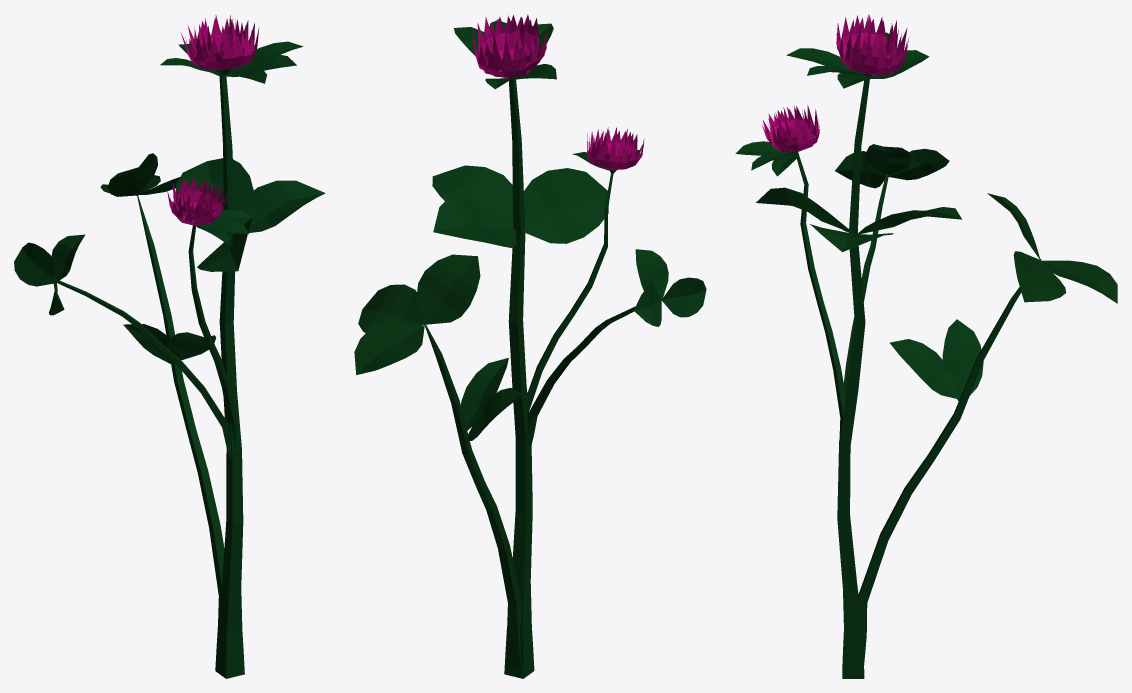
File: КЛЕВЕР ЛУГОВОЙ.fbx
The picture shows the model from 3 angles, left to right: view 1: azimuth 30°, elevation 25°; view 2: azimuth 150°, elevation 25°; view 3: azimuth 270°, elevation 25°; orthographic projection.
Visible parts, largest first — view 1: Plane.003; view 2: Plane.003; view 3: Plane.003.
Boxes of the visible parts, <box> form: Plane.003: <box>14,15,325,678</box>; Plane.003: <box>354,14,706,678</box>; Plane.003: <box>735,14,1117,678</box>.
Size of the model in its own units: 4421 by 10166 by 5383.
